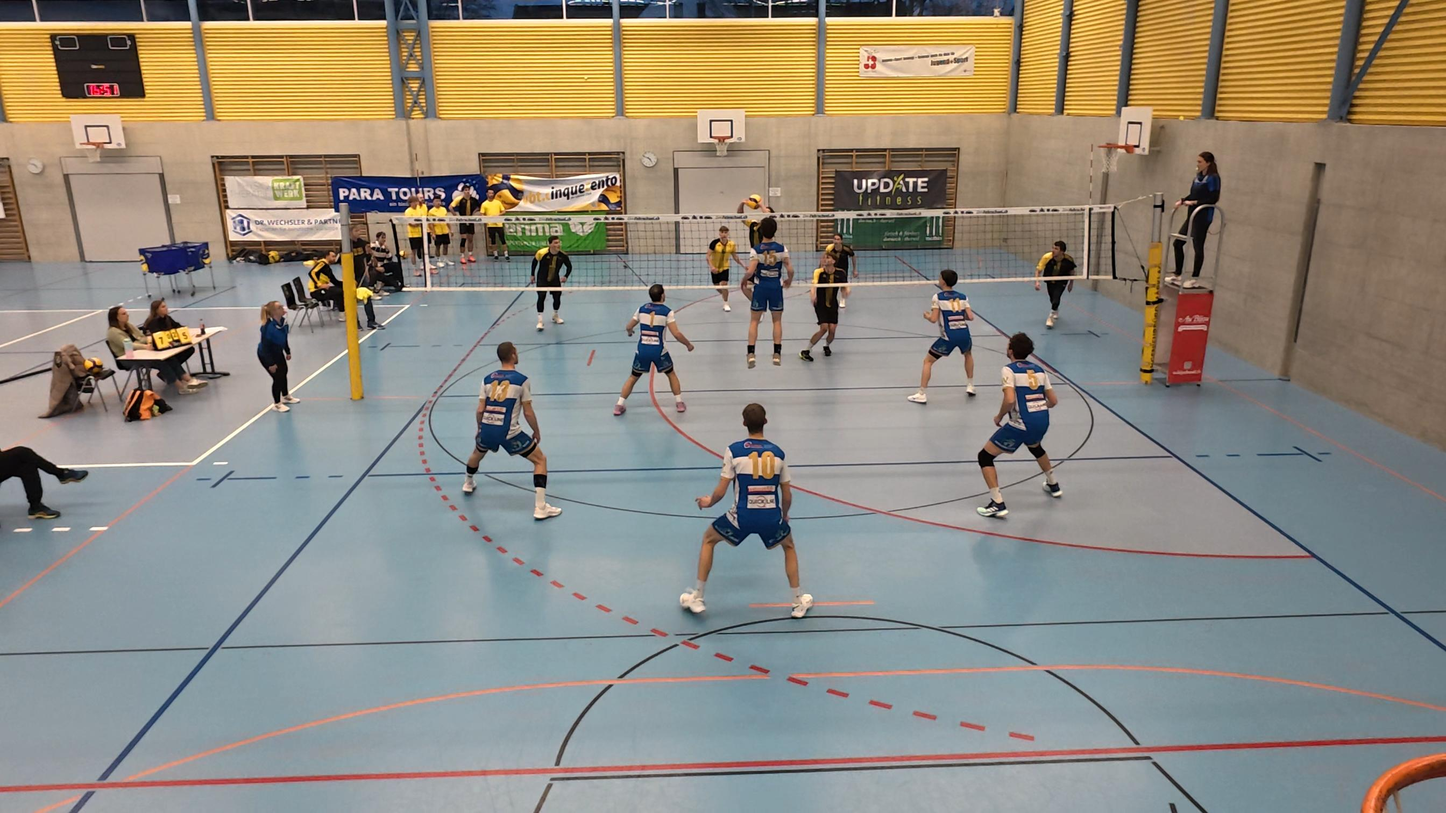alzata: (735, 192, 775, 249)
